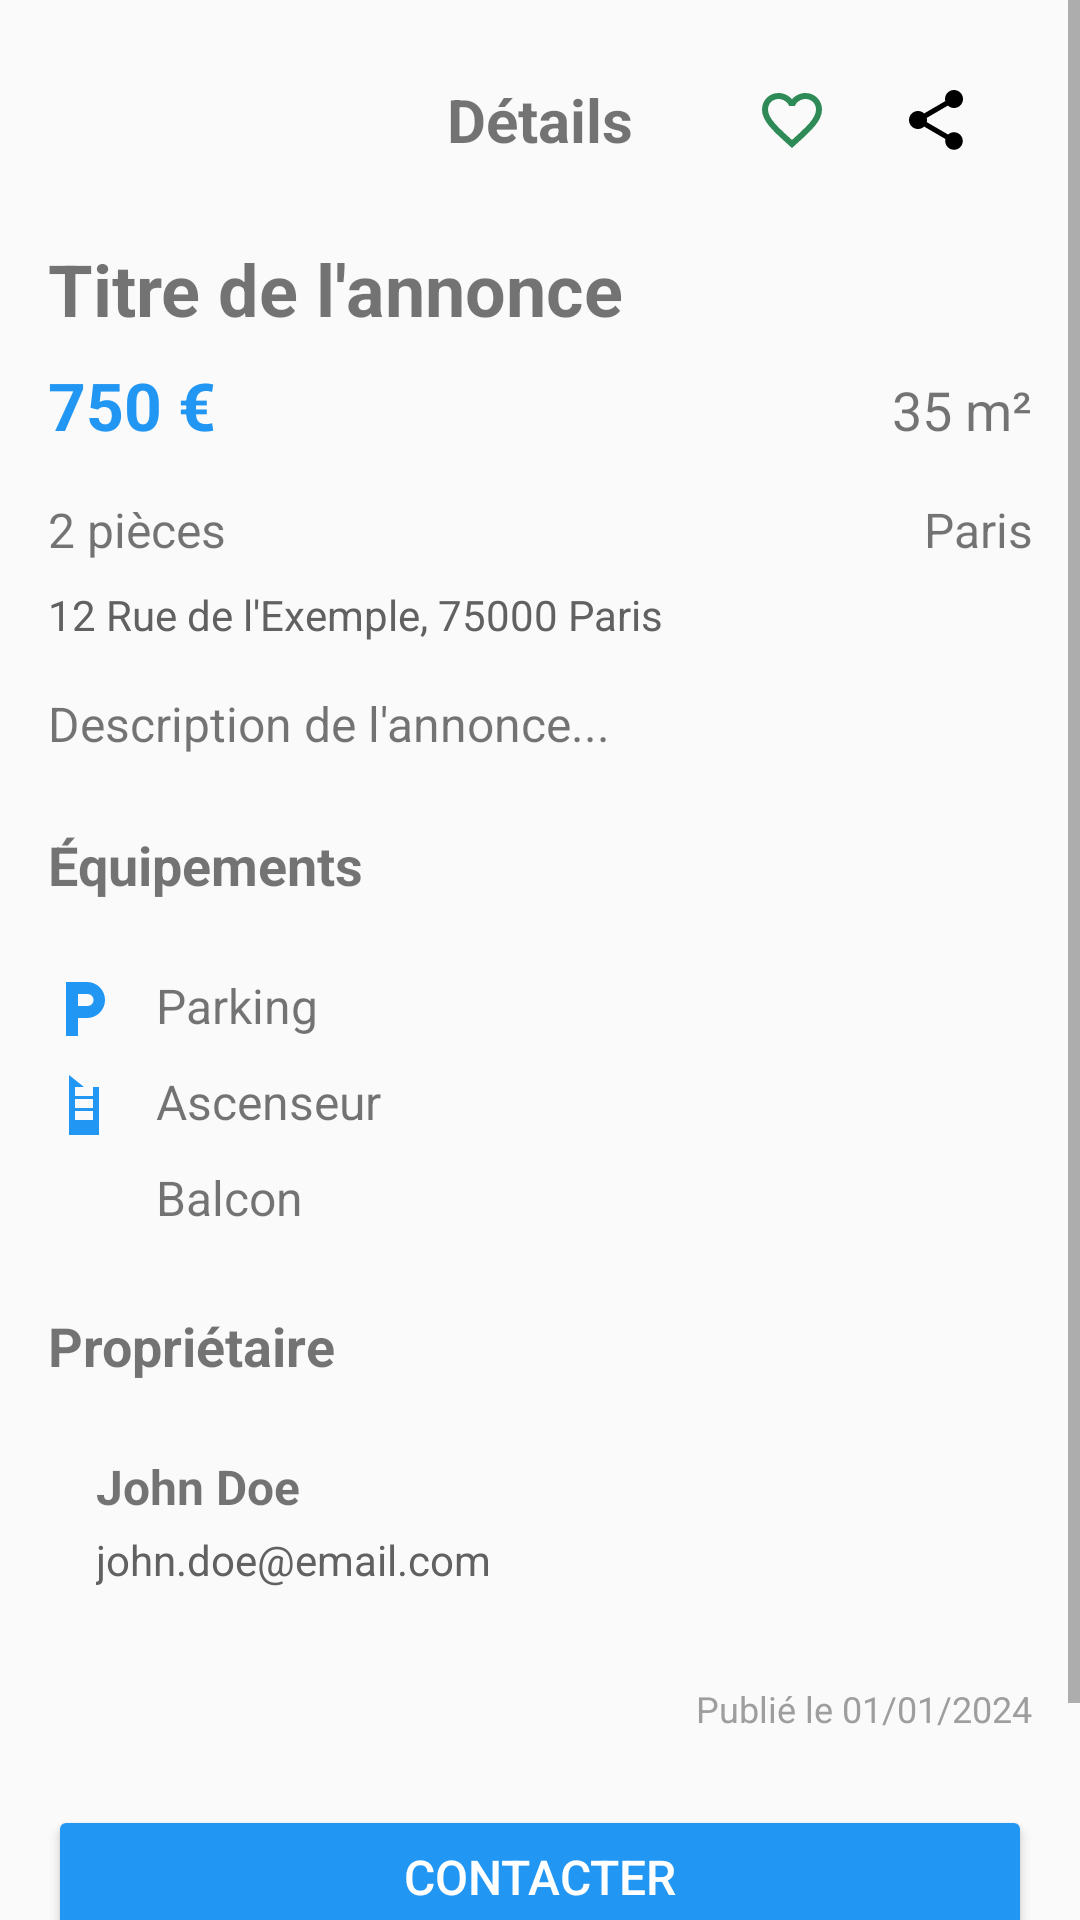

Icon click points for this 1080×1920 phone screenshot, format (x=x, y=y):
Favori: (x=792, y=120)
Partager: (x=936, y=120)
